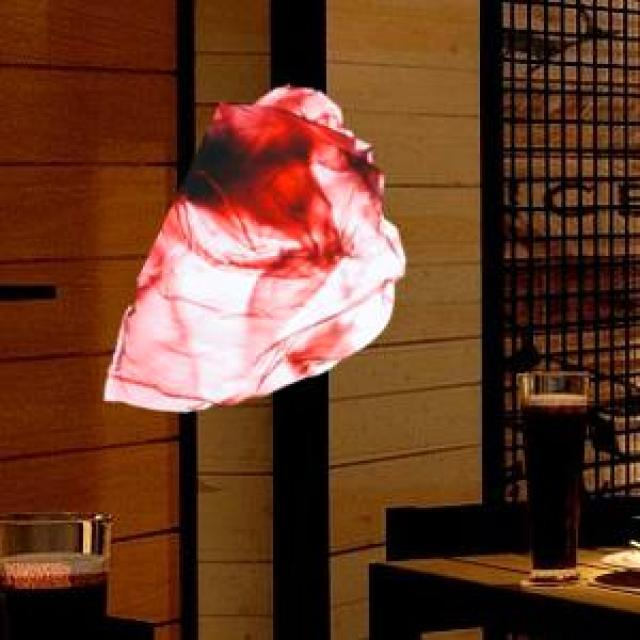Plastic_Bag: (101, 82, 402, 409)
